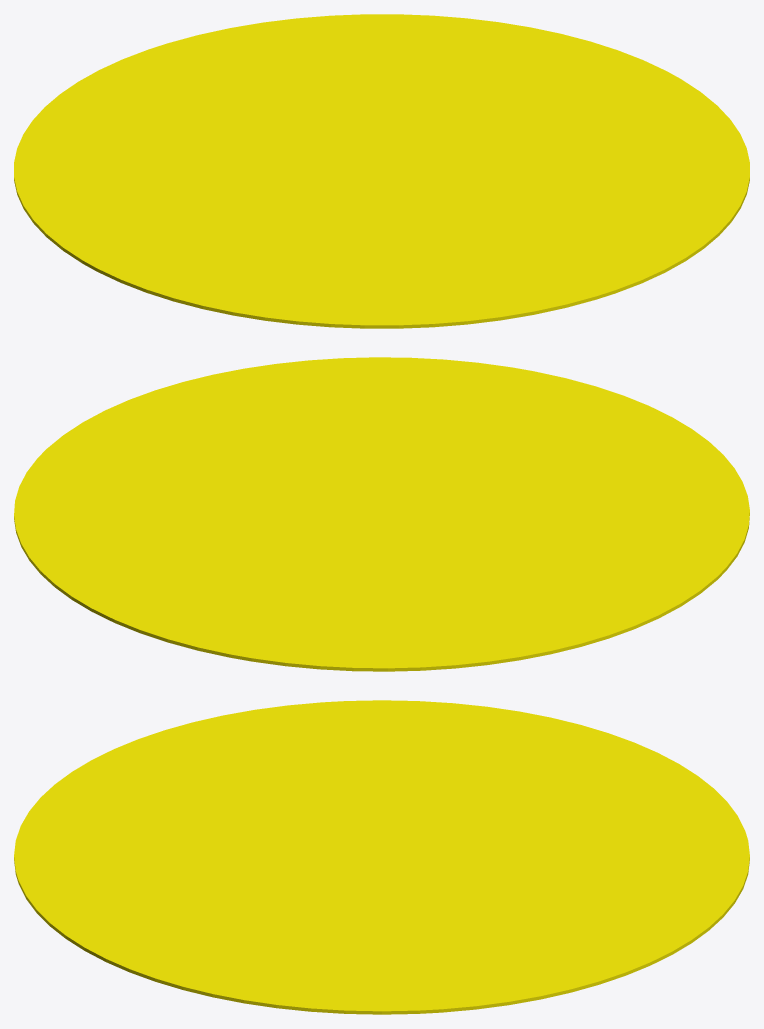
The model's file is Tazas-BaseMetalica-obj.obj.
3 renders of one model, top to bottom at view 1: azimuth 30°, elevation 25°; view 2: azimuth 150°, elevation 25°; view 3: azimuth 270°, elevation 25°, orthographic.
Parts seen in each view (by area): view 1: SuperficieRide_Ride_Surface.001; view 2: SuperficieRide_Ride_Surface.001; view 3: SuperficieRide_Ride_Surface.001.
Boxes of the visible parts, left/top/right/bottom form: SuperficieRide_Ride_Surface.001: left=14, top=14, right=749, bottom=328; SuperficieRide_Ride_Surface.001: left=14, top=357, right=749, bottom=671; SuperficieRide_Ride_Surface.001: left=14, top=700, right=749, bottom=1014.
Bounding box in the file's own units: 9.31 × 0.0466 × 9.31.
